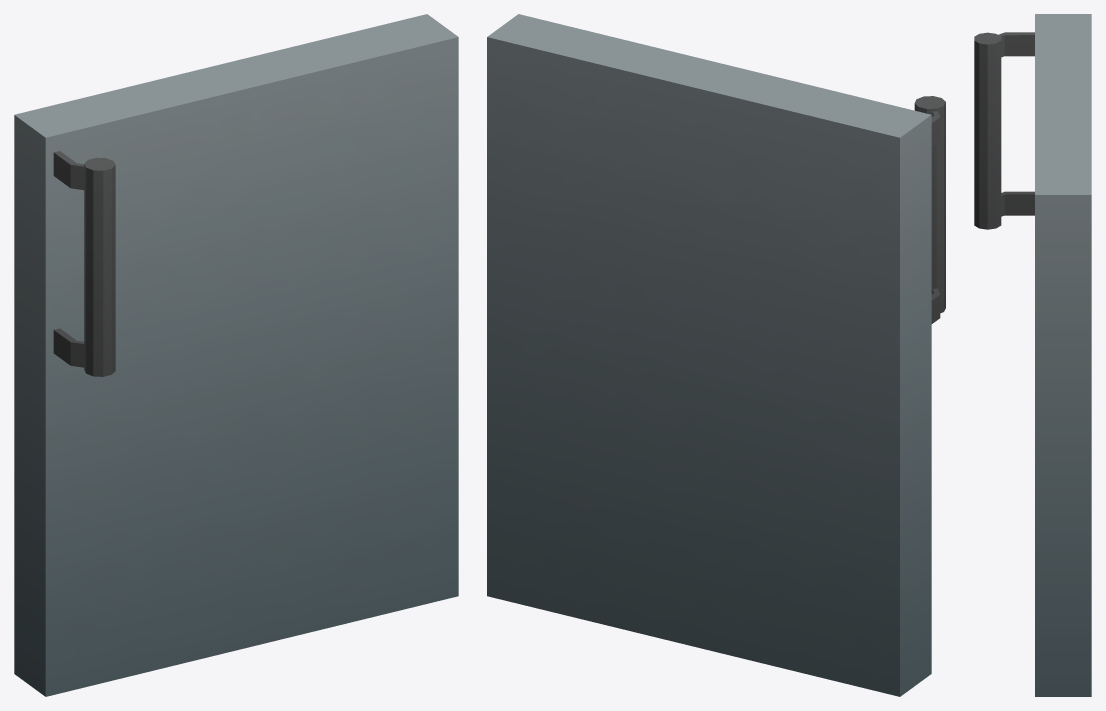
Rendered from FridgeFreezer_LowerDoor.fbx.
3 renders of one model, left to right at view 1: azimuth 30°, elevation 25°; view 2: azimuth 150°, elevation 25°; view 3: azimuth 270°, elevation 25°, orthographic. The views are drawn at different scales.
Visible parts, largest first — view 1: FridgeFreezer_LowerDoor; view 2: FridgeFreezer_LowerDoor; view 3: FridgeFreezer_LowerDoor.
Boxes of the visible parts, <box> form: FridgeFreezer_LowerDoor: <box>14,14,458,696</box>; FridgeFreezer_LowerDoor: <box>487,14,945,696</box>; FridgeFreezer_LowerDoor: <box>974,14,1091,696</box>.
Size of the model in its own units: 85.88 by 111 by 23.56.
